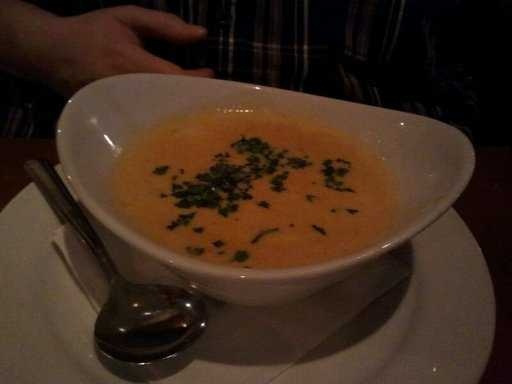soup: (108, 84, 402, 272)
